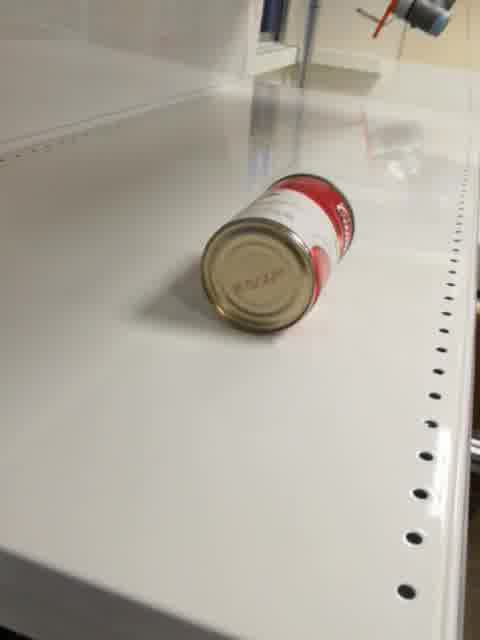tomatosoup: (199, 173, 356, 336)
